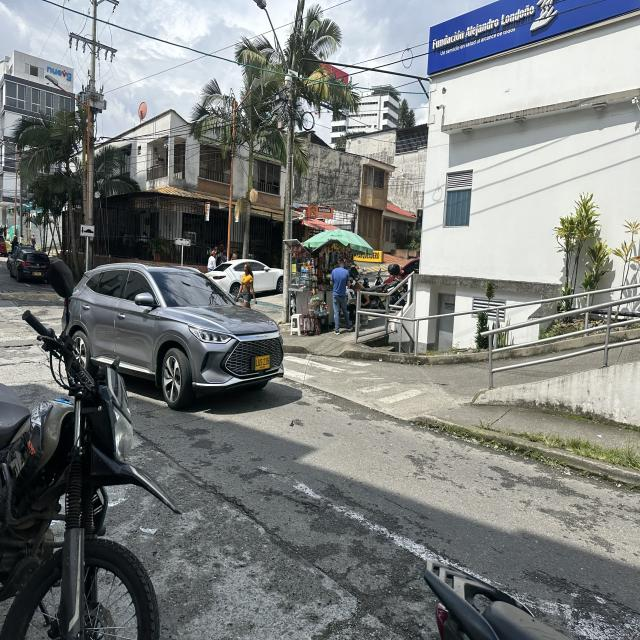number plate: (251, 354, 270, 371)
